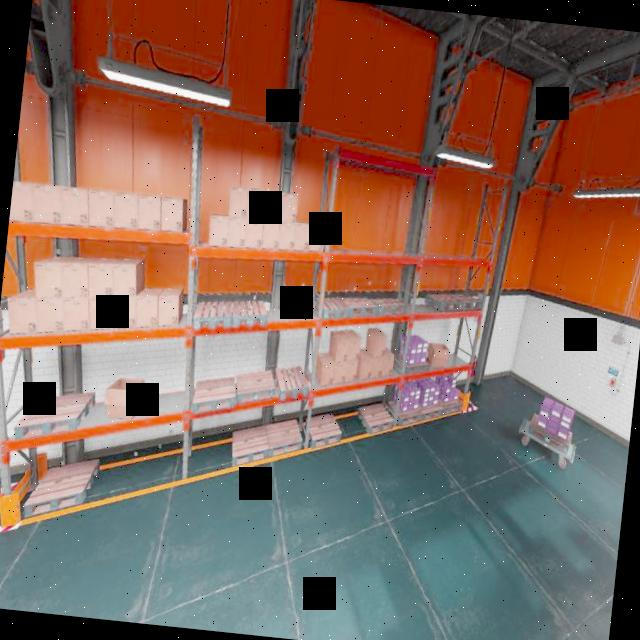box: (102, 372, 148, 422), (31, 261, 66, 298), (34, 187, 65, 227), (9, 180, 37, 223), (62, 187, 91, 227), (5, 299, 39, 332), (90, 190, 118, 230), (154, 287, 183, 325), (115, 262, 145, 297), (63, 265, 90, 301), (37, 299, 67, 331), (328, 331, 361, 360), (87, 267, 115, 300), (116, 194, 141, 230), (139, 197, 164, 233), (161, 200, 188, 231), (110, 297, 137, 328), (360, 353, 393, 378), (86, 298, 113, 328), (206, 214, 231, 246), (425, 339, 451, 369), (225, 184, 248, 217), (333, 358, 360, 385), (244, 218, 265, 251), (315, 352, 335, 386), (64, 301, 88, 329), (227, 218, 247, 249), (262, 193, 284, 221), (366, 327, 388, 355), (246, 188, 266, 218), (261, 221, 282, 249), (280, 194, 299, 224), (136, 300, 158, 324), (278, 223, 296, 252), (294, 224, 311, 251), (310, 225, 325, 254)
